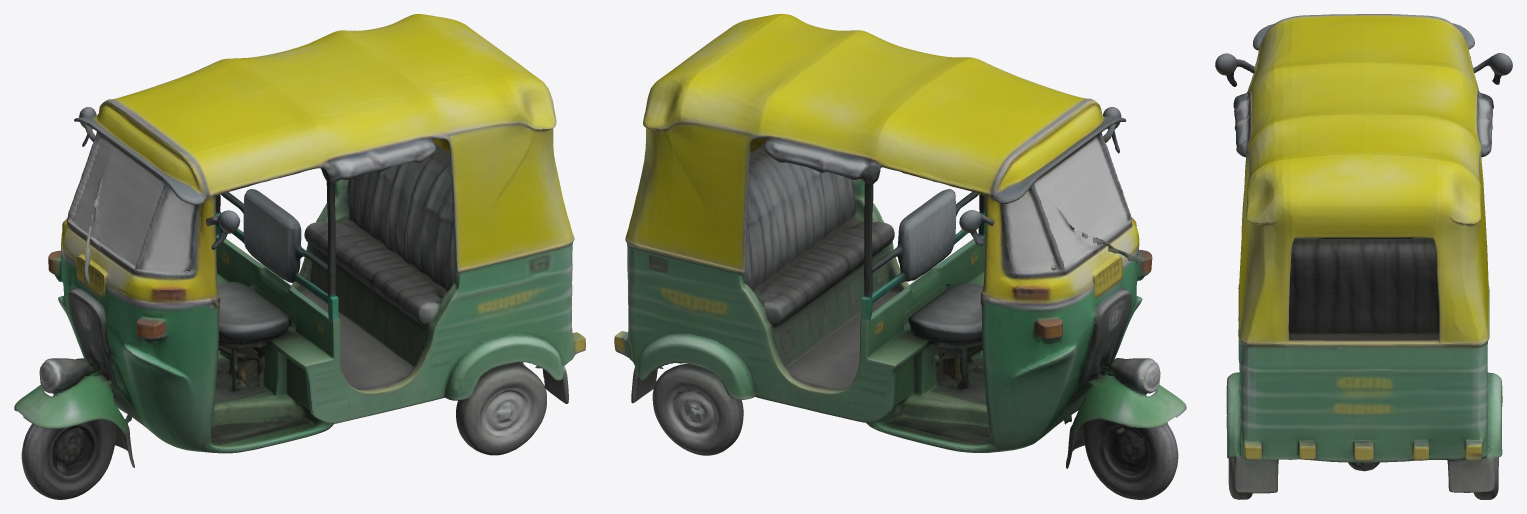
3 views of the same model, side by side, from view 1: azimuth 30°, elevation 25°; view 2: azimuth 150°, elevation 25°; view 3: azimuth 270°, elevation 25° (orthographic). The views are drawn at different scales.
Visible parts, largest first — view 1: geometry_0; view 2: geometry_0; view 3: geometry_0.
Boxes of the visible parts, x1,y1,x2,y2 form: geometry_0: (14, 14, 585, 499); geometry_0: (614, 14, 1186, 499); geometry_0: (1215, 14, 1512, 499).
Size of the model in its own units: 0.995 by 0.6849 by 0.5203.
